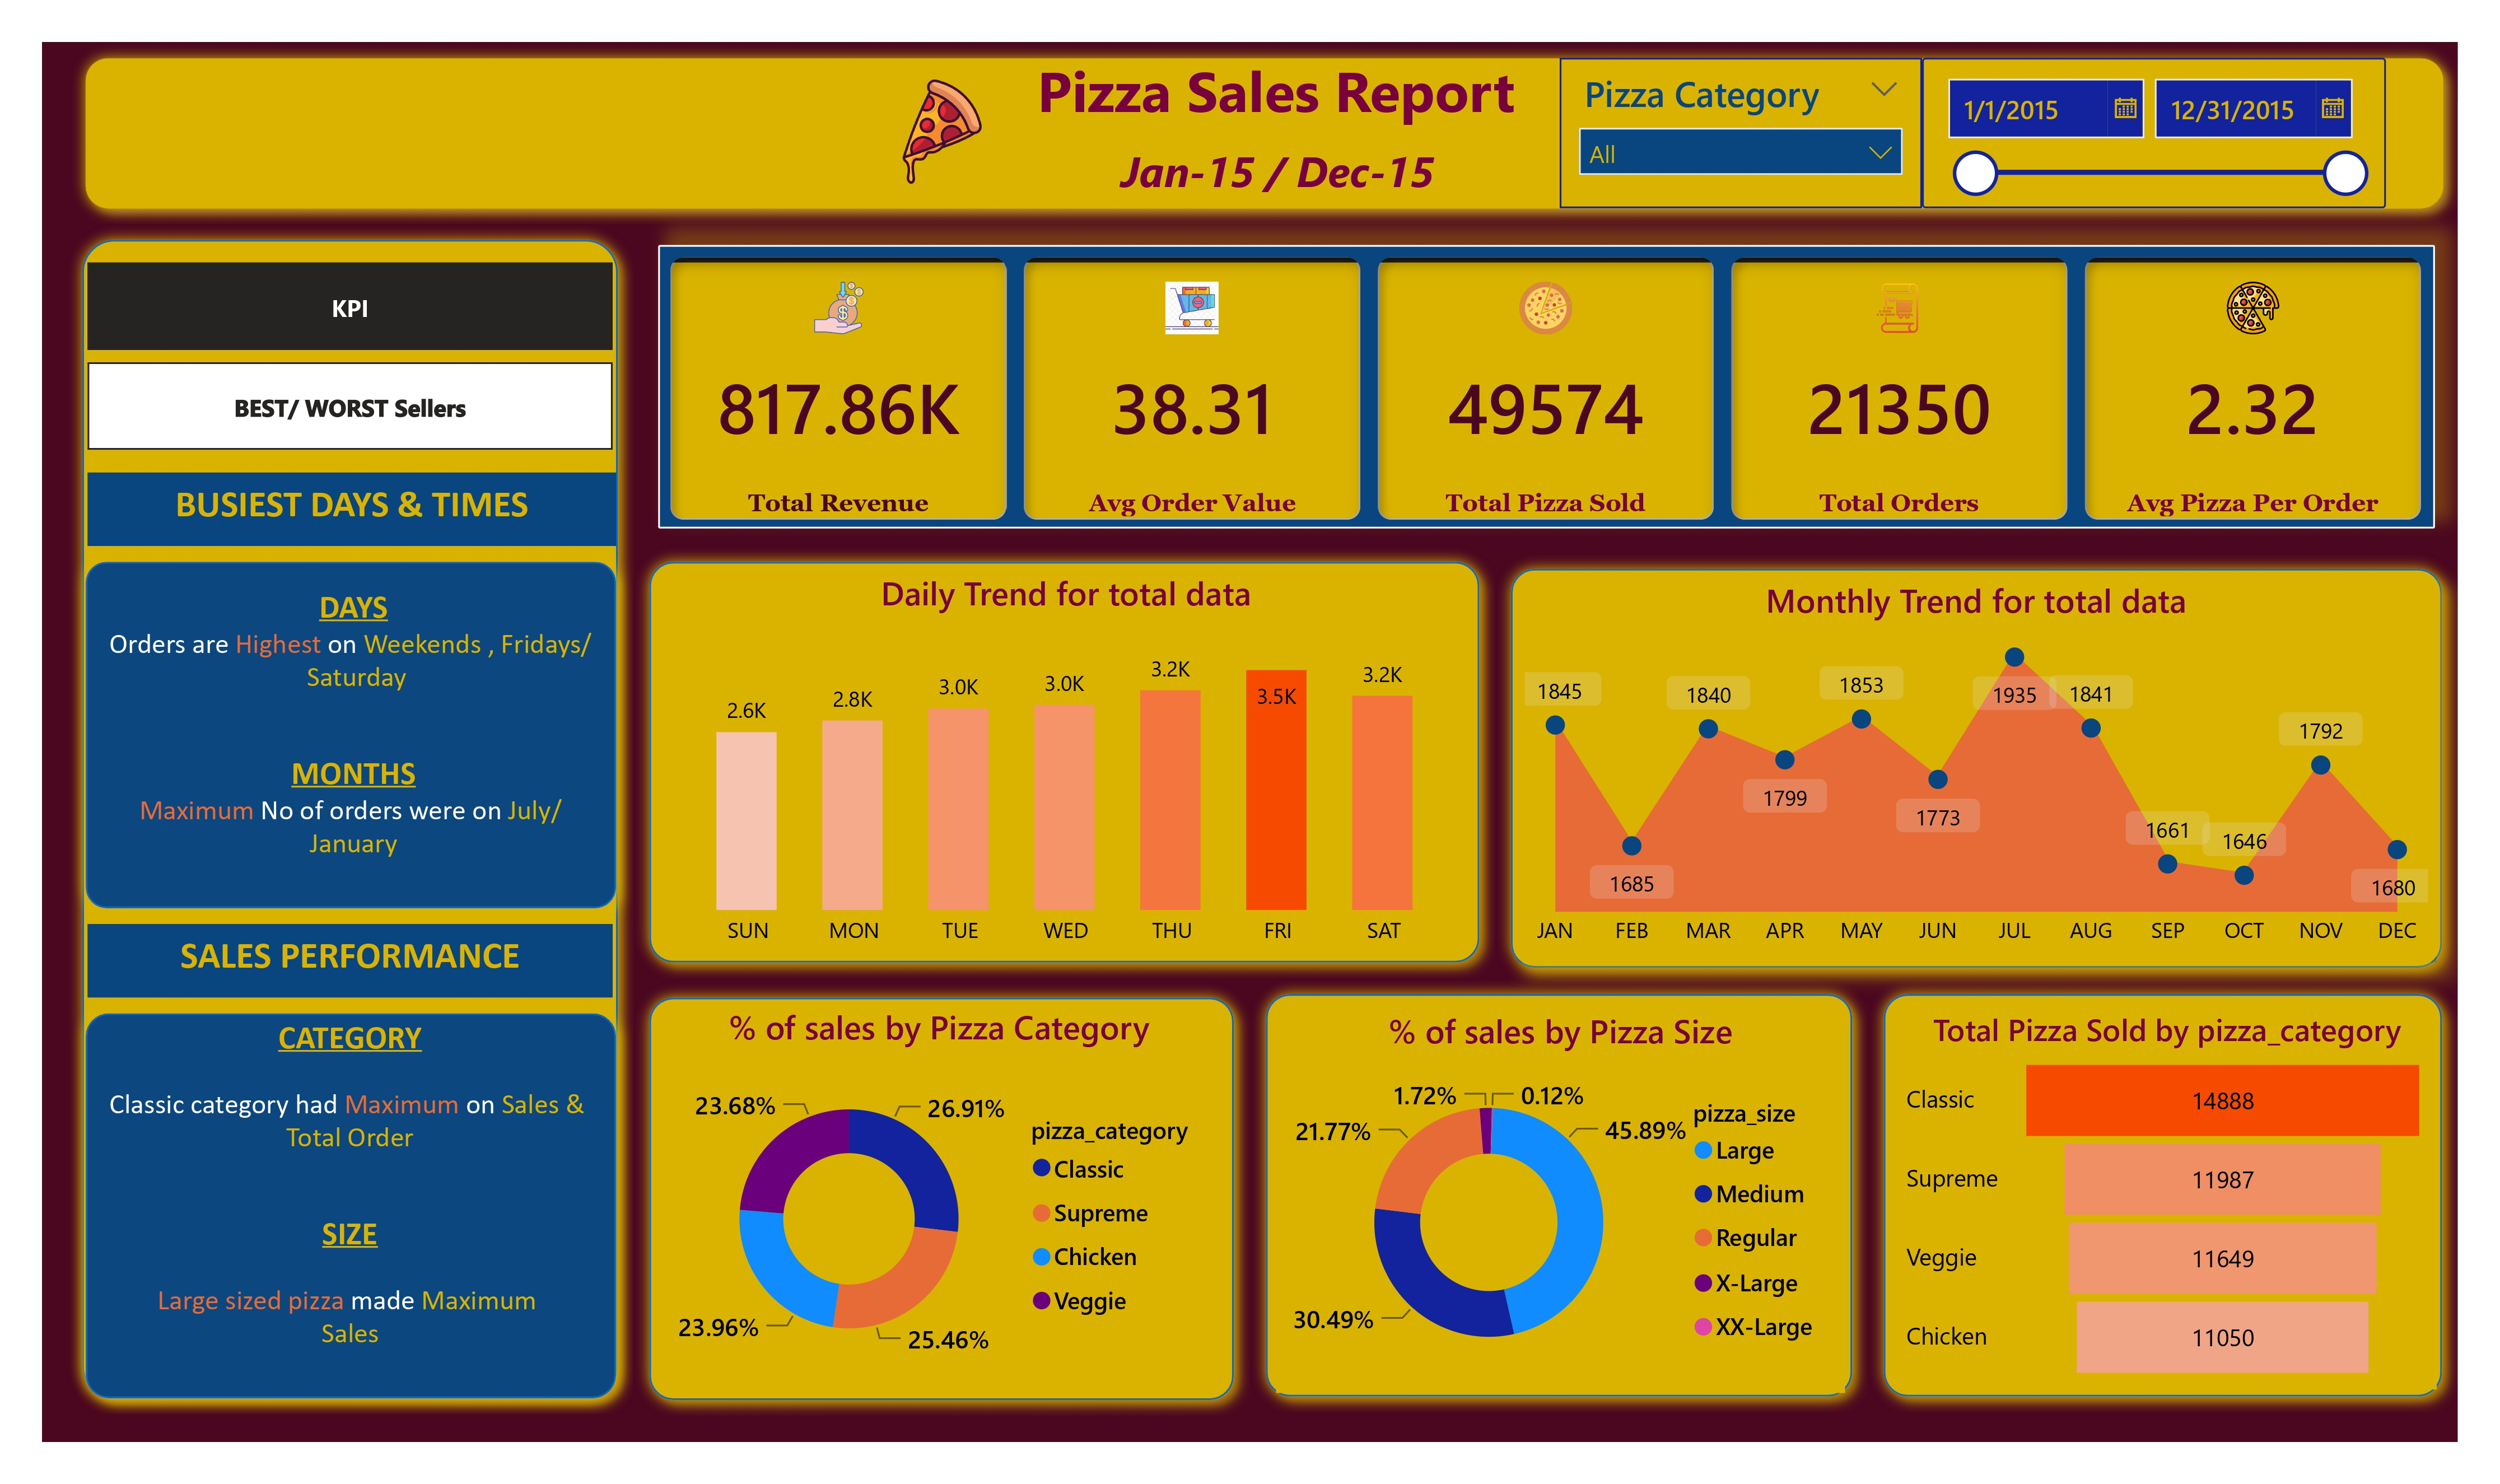

Layout of this report page (visuals, bound fields, positions):
{"tool":"powerbi","page":{"name":"KPI","canvas":[1380,800],"ordinal":0},"visuals":[{"type":"cardVisual","fields":{"Data":["Template.Total Revenue","Template.Avg Order Value","Template.Total Pizza Sold","Template.Total Orders","Template.Avg Pizza Per Order"]},"box":[351.9,116,1014.8,161.7],"z":0},{"type":"shape","box":[338.3,288.3,491.7,246.7],"z":1000},{"type":"columnChart","title":"Daily Trend for total data","fields":{"Category":["Template.Order Day"],"Y":["Template.Total Orders"]},"box":[356,302,458,224],"z":2000},{"type":"shape","box":[15.8,0,1364.9,103.5],"z":3000},{"type":"textbox","box":[326,0,758,64],"z":4000},{"type":"textbox","box":[598,52,216,50],"z":5000},{"type":"image","box":[454,12,116,78],"z":6000},{"type":"shape","box":[830,291.7,550,246.7],"z":7000},{"type":"areaChart","title":"Monthly Trend for total data","fields":{"Category":["Template.Order Month"],"Y":["Template.Total Orders"]},"box":[842,306,526,220],"z":8000},{"type":"shape","box":[338.3,536.7,351.7,248.3],"z":9000},{"type":"shape","box":[690,535,353.3,248.3],"z":10000},{"type":"shape","box":[1043.3,535,336.7,248.3],"z":11000},{"type":"donutChart","title":"% of sales by Pizza Category","fields":{"Category":["Template.pizza_category"],"Y":["Template.Total Revenue"]},"box":[351.7,550,321.7,220],"z":12000},{"type":"donutChart","title":"% of sales by Pizza Size","fields":{"Y":["Template.Total Revenue"],"Category":["Template.pizza_size"]},"box":[705,551.7,325,220],"z":13000},{"type":"funnel","fields":{"Category":["Template.pizza_category"],"Y":["Template.Total Pizza Sold"]},"box":[1060,552,308,218],"z":14000},{"type":"shape","box":[14,104,324,680],"z":15000},{"type":"textbox","box":[25.9,245.7,302.5,42],"z":16000},{"type":"shape","box":[16,287.7,321,216],"z":17000},{"type":"shape","box":[16,545.7,321,238.3],"z":18000},{"type":"textbox","box":[25.9,503.7,300,42],"z":19000},{"type":"textbox","box":[28,306,300,182],"z":20000},{"type":"textbox","box":[26,552,300,218],"z":21000},{"type":"slicer","fields":{"Values":["Template.pizza_category"]},"box":[866.7,8.8,207,86],"z":22000},{"type":"slicer","fields":{"Values":["Template.order_date"]},"box":[1073.7,8.8,264.9,86],"z":23000},{"type":"pageNavigator","box":[26.4,125.7,300,50],"z":24000},{"type":"pageNavigator","box":[25.7,182.9,300,50],"z":25000}]}

Visuals, with their boxes in screenshot pixels (x1, y1, x2, y2):
cardVisual - Template.Total Revenue x Template.Avg Order Value: <region>658, 245, 2434, 528</region>
shape: <region>635, 547, 1495, 978</region>
"Daily Trend for total data" columnChart: <region>665, 571, 1467, 963</region>
shape: <region>69, 42, 2458, 223</region>
textbox: <region>613, 42, 1940, 154</region>
textbox: <region>1089, 133, 1467, 221</region>
image: <region>837, 63, 1040, 199</region>
shape: <region>1495, 553, 2458, 984</region>
"Monthly Trend for total data" areaChart: <region>1516, 577, 2437, 963</region>
shape: <region>635, 981, 1250, 1416</region>
shape: <region>1250, 978, 1868, 1413</region>
shape: <region>1868, 978, 2458, 1413</region>
"% of sales by Pizza Category" donutChart: <region>657, 1005, 1221, 1389</region>
"% of sales by Pizza Size" donutChart: <region>1276, 1007, 1845, 1393</region>
funnel - Template.pizza_category x Template.Total Pizza Sold: <region>1898, 1008, 2437, 1389</region>
shape: <region>67, 224, 634, 1414</region>
textbox: <region>87, 472, 617, 545</region>
shape: <region>70, 545, 632, 923</region>
shape: <region>70, 997, 632, 1414</region>
textbox: <region>87, 923, 613, 997</region>
textbox: <region>91, 577, 616, 896</region>
textbox: <region>87, 1008, 613, 1389</region>
slicer - Template.pizza_category: <region>1559, 57, 1921, 208</region>
slicer - Template.order_date: <region>1921, 57, 2386, 208</region>
pageNavigator: <region>88, 262, 613, 349</region>
pageNavigator: <region>87, 362, 612, 450</region>
